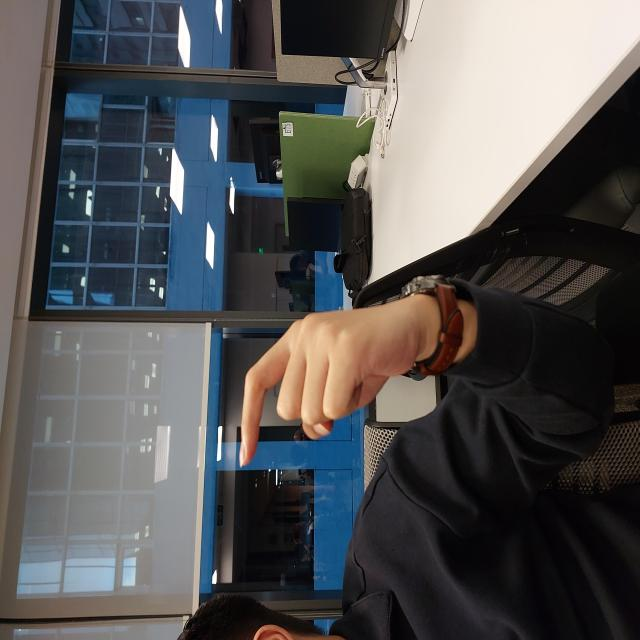X: (172, 238, 337, 418)
